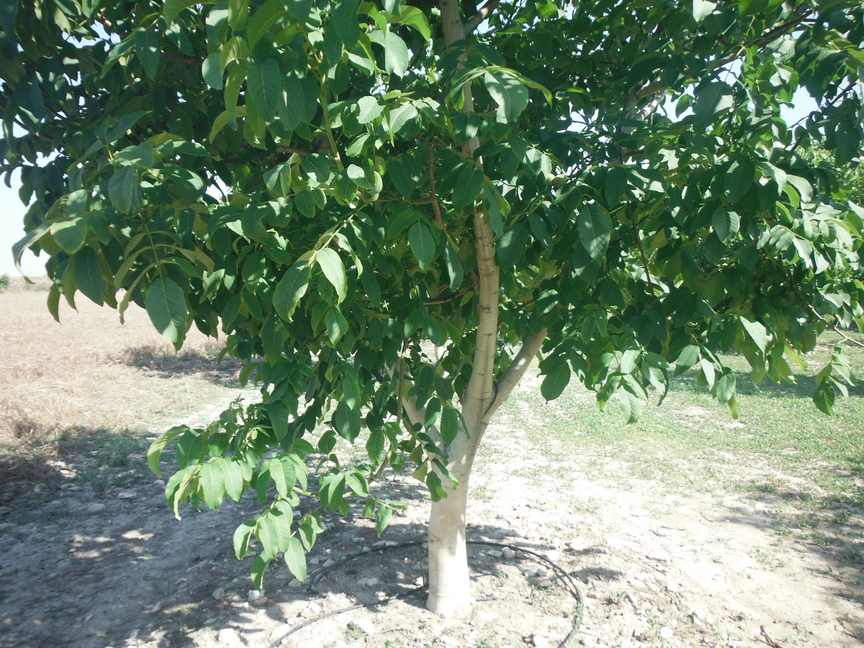walnut: (366, 170, 385, 195), (359, 187, 382, 205), (553, 171, 570, 190), (540, 169, 556, 188)
